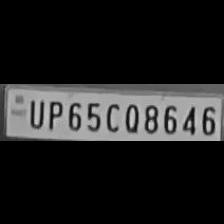4: (178, 101, 198, 133)
5: (82, 98, 102, 130)
6: (197, 102, 217, 134), (160, 100, 178, 132), (64, 97, 80, 130)
8: (141, 100, 158, 132)
C: (103, 99, 120, 131)
P: (43, 97, 62, 129)
Q: (122, 100, 140, 132)
U: (24, 96, 44, 128)
